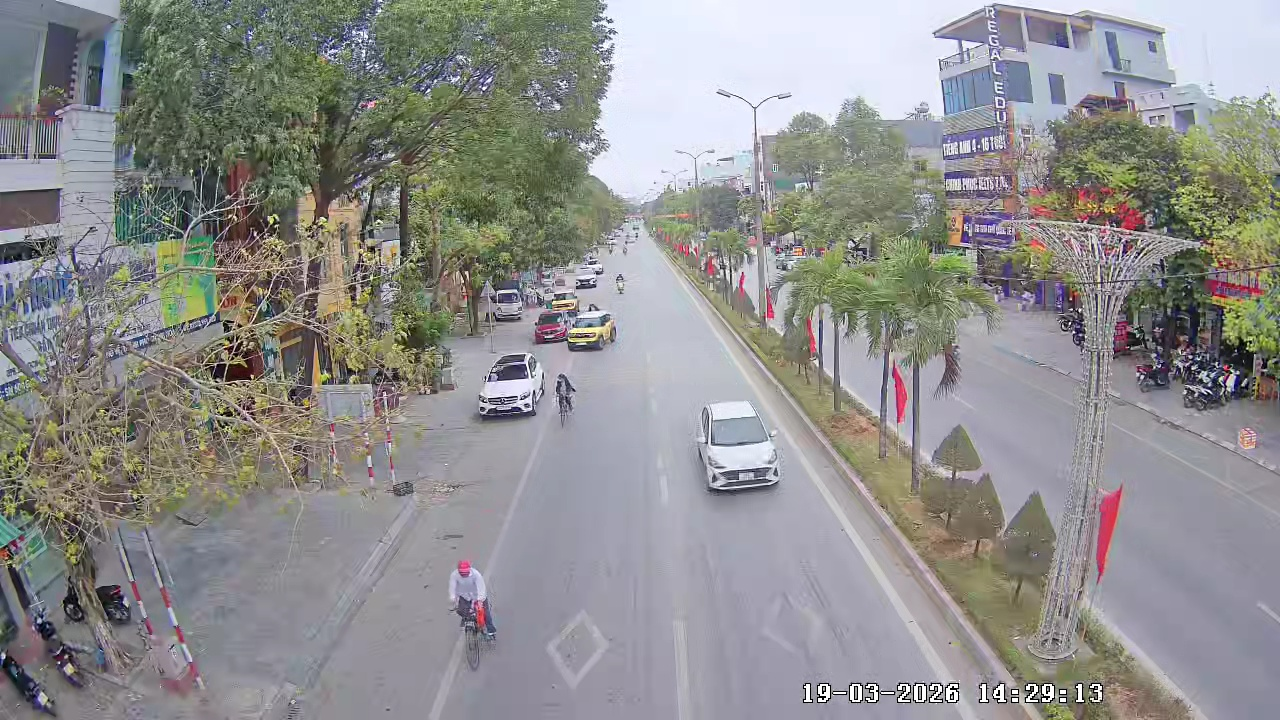bike: (446, 557, 500, 663), (552, 370, 578, 428)
car: (693, 399, 782, 493), (475, 351, 544, 420), (565, 305, 617, 351), (491, 285, 526, 322), (533, 309, 564, 343), (575, 266, 601, 289)
motorbike: (614, 272, 627, 296)
